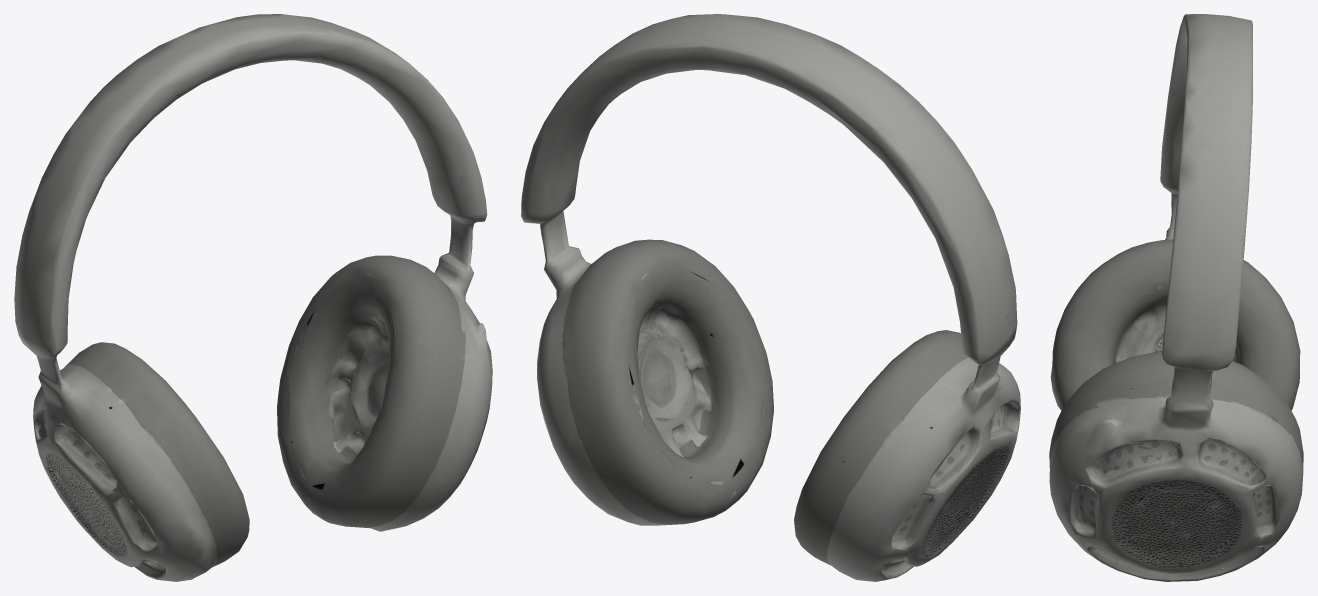
File: fone.glb
3 renders of one model, left to right at view 1: azimuth 30°, elevation 25°; view 2: azimuth 150°, elevation 25°; view 3: azimuth 270°, elevation 25°, orthographic. The views are drawn at different scales.
Visible parts, largest first — view 1: Prop_fone; view 2: Prop_fone; view 3: Prop_fone.
Boxes of the visible parts, left/top/right/bottom form: Prop_fone: left=14, top=14, right=492, bottom=581; Prop_fone: left=521, top=14, right=1020, bottom=581; Prop_fone: left=1049, top=14, right=1303, bottom=581.
Size of the model in its own units: 0.184 by 0.2 by 0.0942.
1 material, 1 textured.
